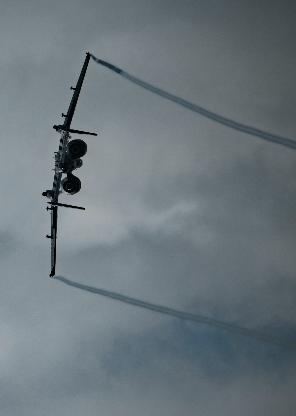A10: (42, 52, 98, 278)
